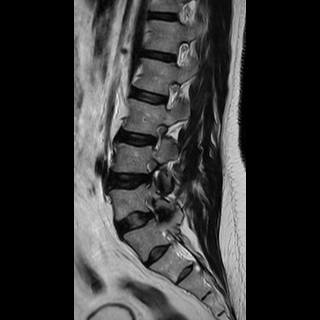RFS0: (156, 78, 184, 117), (165, 35, 194, 72)
RFS1: (147, 118, 171, 155)
RFS2: (138, 155, 166, 189)
